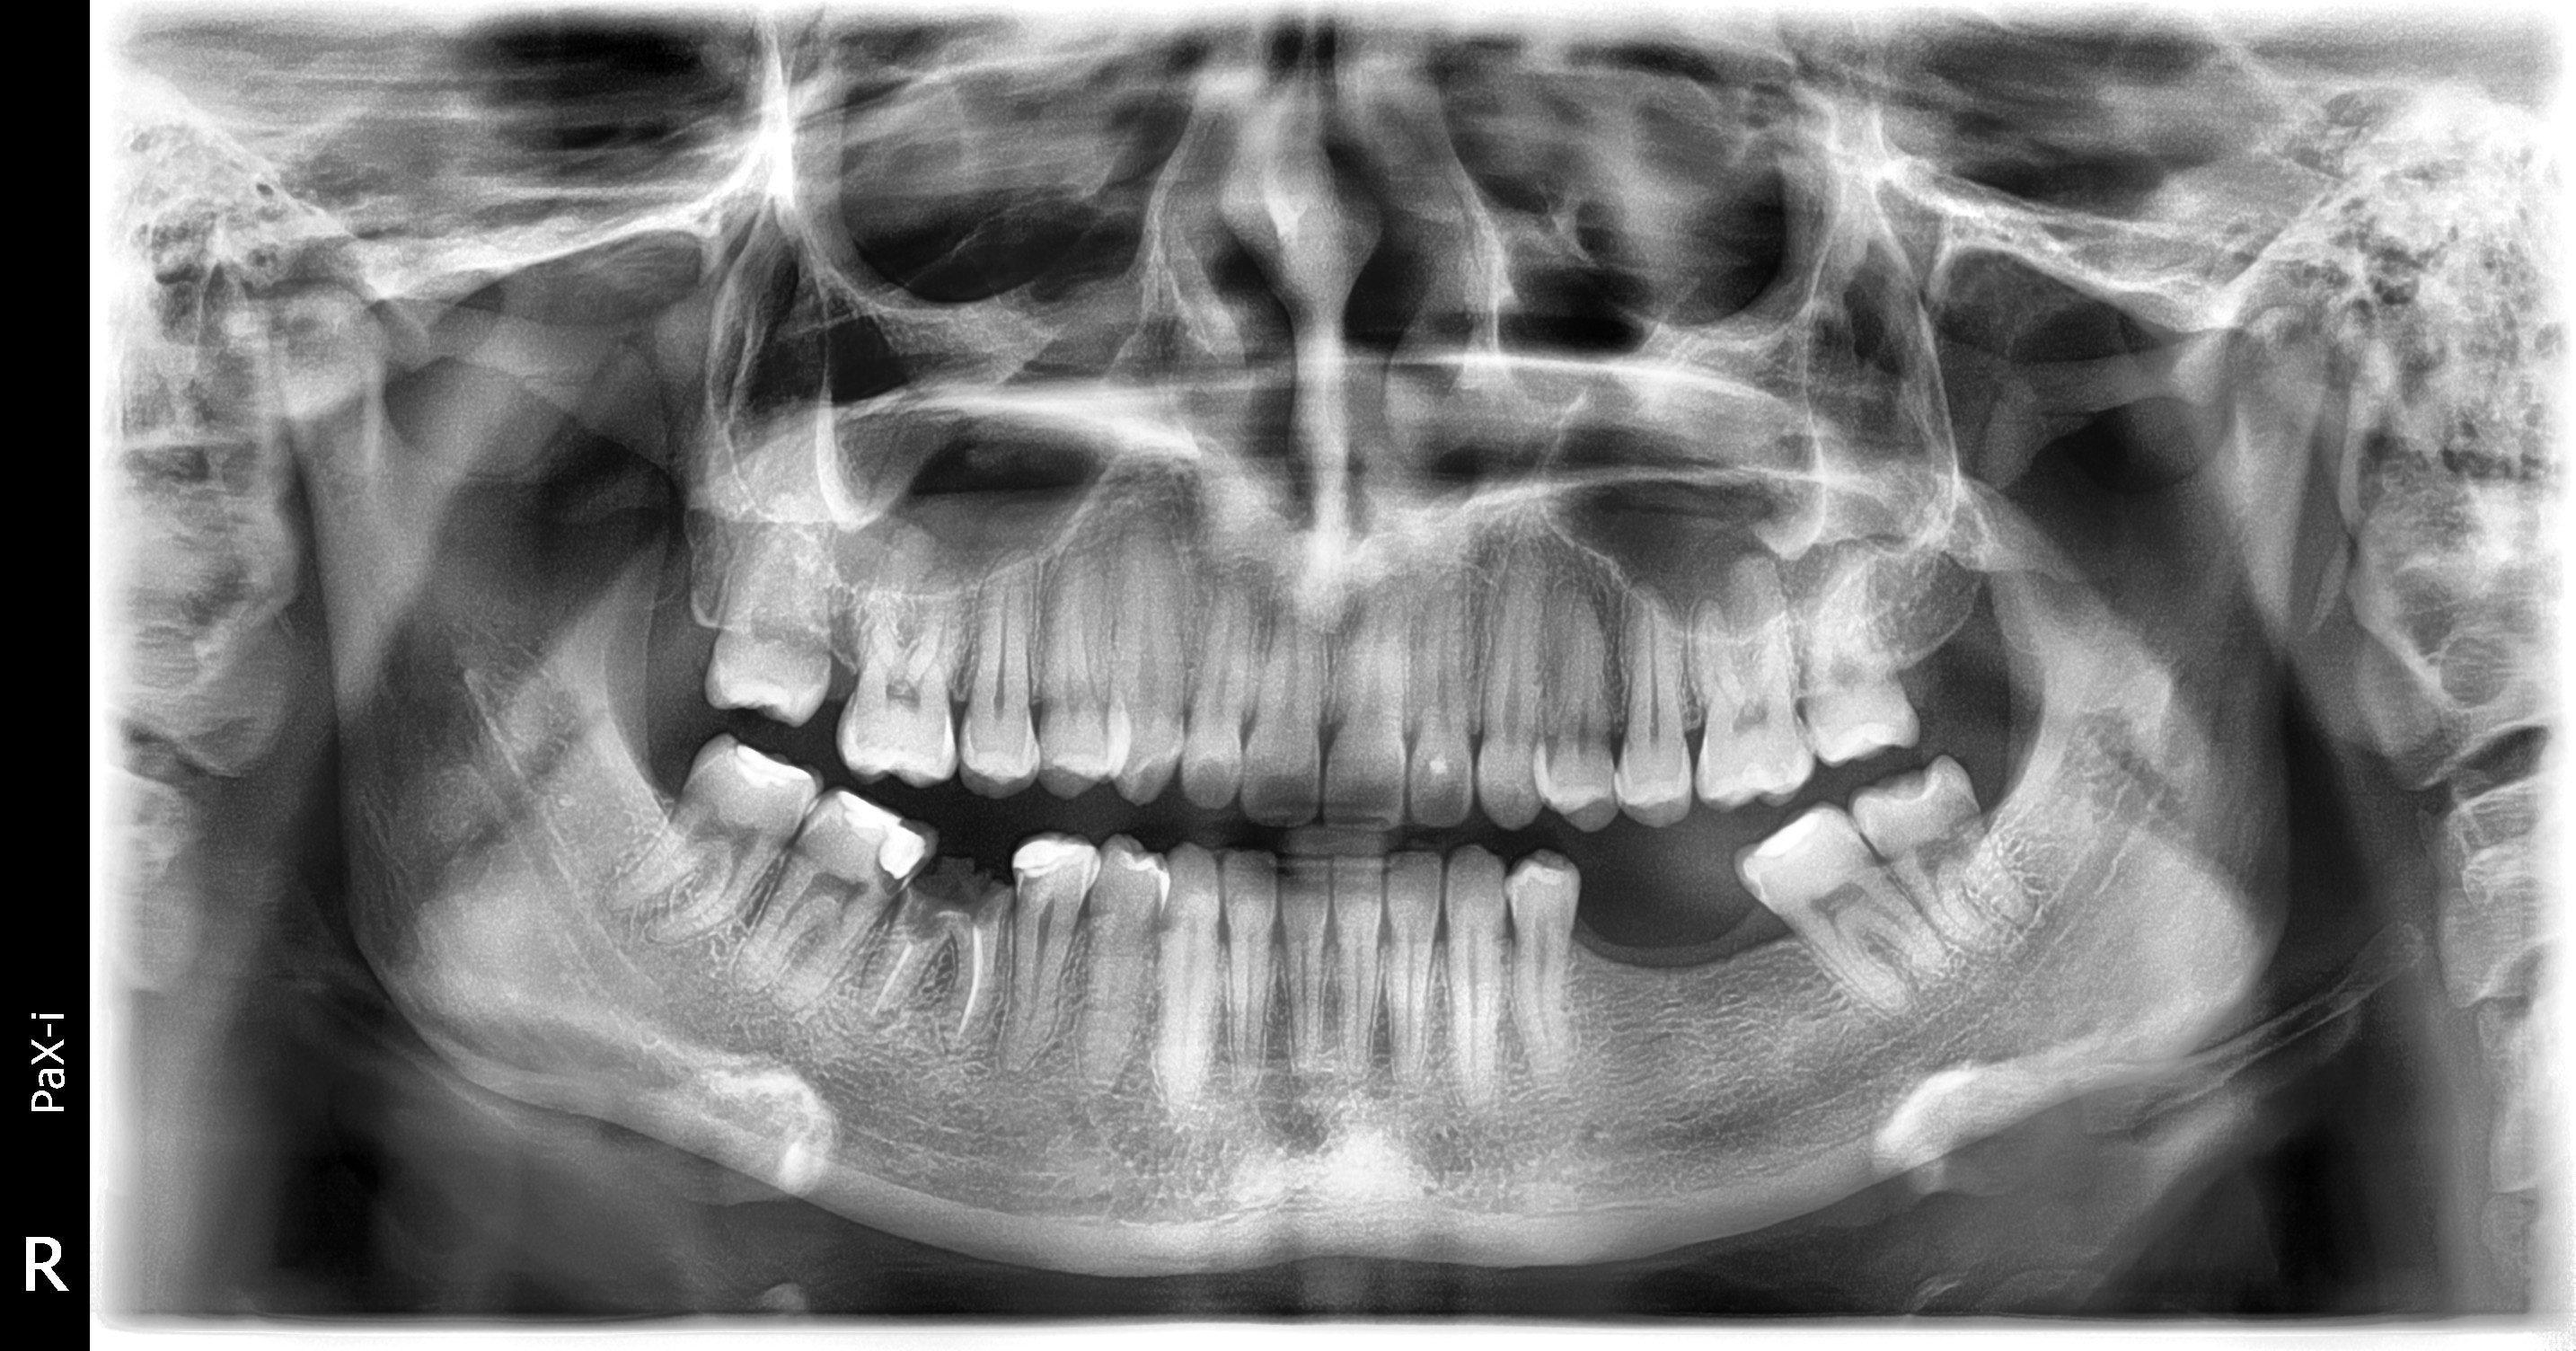BON: (1731, 913, 1803, 954)
CAR: (889, 840, 1024, 913)
END: (867, 930, 998, 1036)
OBT: (724, 729, 804, 794), (1014, 831, 1102, 877), (874, 823, 917, 879)
